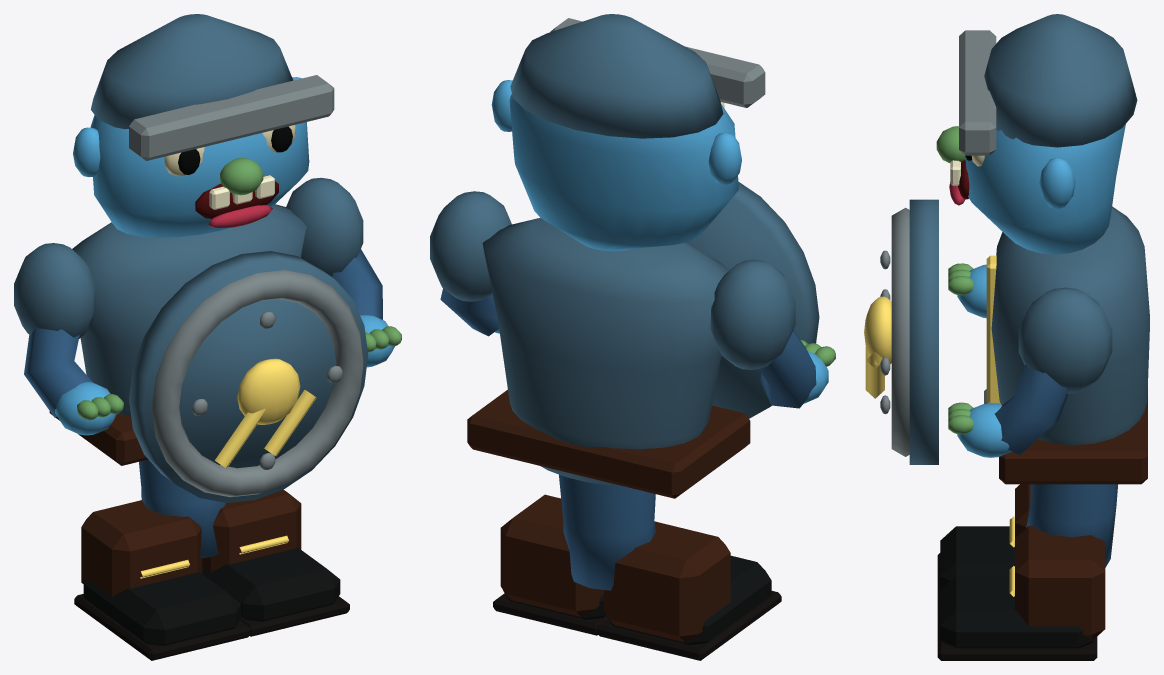
The model's file is shield.glb.
3 views of the same model, side by side, from view 1: azimuth 30°, elevation 25°; view 2: azimuth 150°, elevation 25°; view 3: azimuth 270°, elevation 25° (orthographic). The views are drawn at different scales.
Parts seen in each view (by area): view 1: Arms, Head, LegL, Body, LegR; view 2: Body, Head, Arms, LegL, LegR; view 3: Head, Arms, Body, LegR, LegL.
Boxes of the visible parts, box(x1,y1,x2,y2) form: Arms: box(14, 177, 401, 502); Head: box(73, 14, 334, 237); LegL: box(74, 459, 250, 660); Body: box(49, 204, 306, 465); LegR: box(141, 487, 349, 636); Body: box(467, 217, 750, 498); Head: box(491, 14, 765, 251); Arms: box(430, 181, 835, 418); LegL: box(559, 474, 781, 660); LegR: box(493, 475, 614, 635); Head: box(936, 14, 1137, 254); Arms: box(864, 199, 1112, 464); Body: box(984, 206, 1149, 484); LegR: box(937, 484, 1117, 660); LegL: box(937, 484, 1117, 603).
Bounding box in the file's own units: 0.7829 × 1.22 × 0.5365.
Materials: 1 (1 with a texture image).
